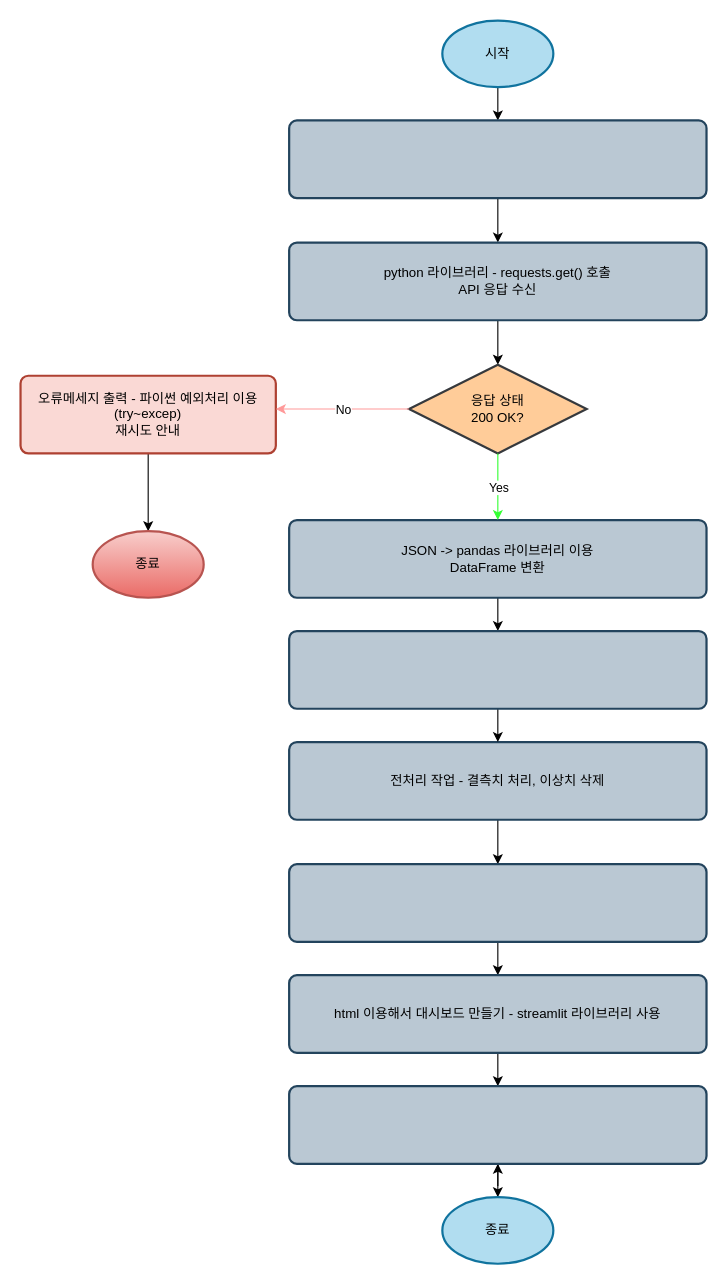
This 726x1283 diagram has some shape labels left out. Here are the shapes that lost their labels. From the top down, the box of each, then its label:
(287, 119, 707, 199): 공공데이터 포털 API url 준비 (혼잡도 + 인증키)
(287, 629, 707, 709): 역ID, 측정시간, 역이름, 유동인구수 컬럼 추출
(287, 862, 707, 942): seaborn, matplotlib 라이브러리 사용해서 차트 만들기
(287, 1084, 707, 1164): 분석결과를 pdf로 내보내기 - 라이브러리 사용
